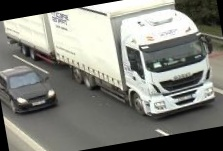truck: (4, 0, 218, 141)
